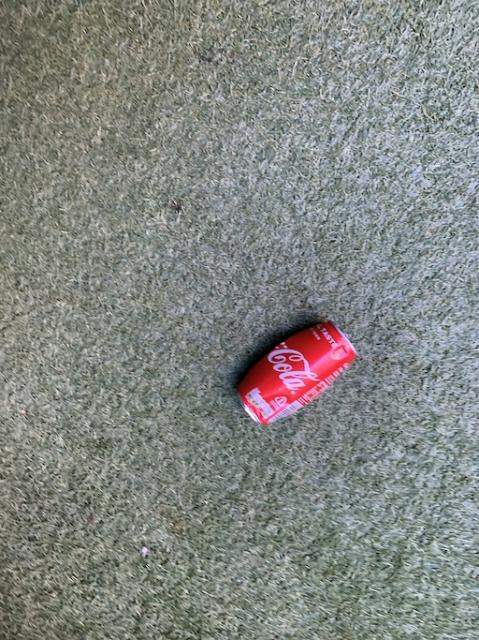metal: (238, 321, 355, 423)
